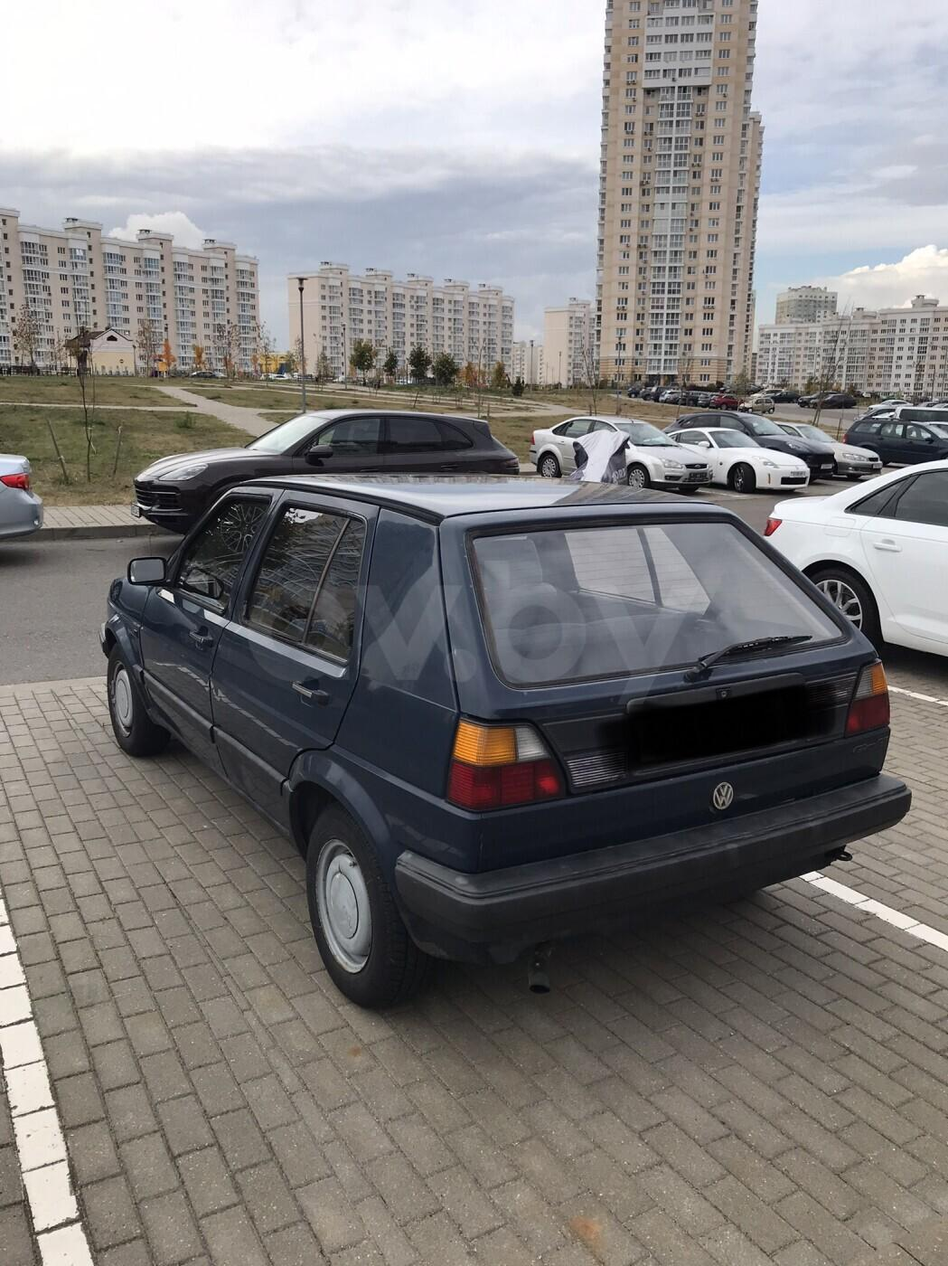Golf_1983-1992: (96, 467, 916, 1004)
